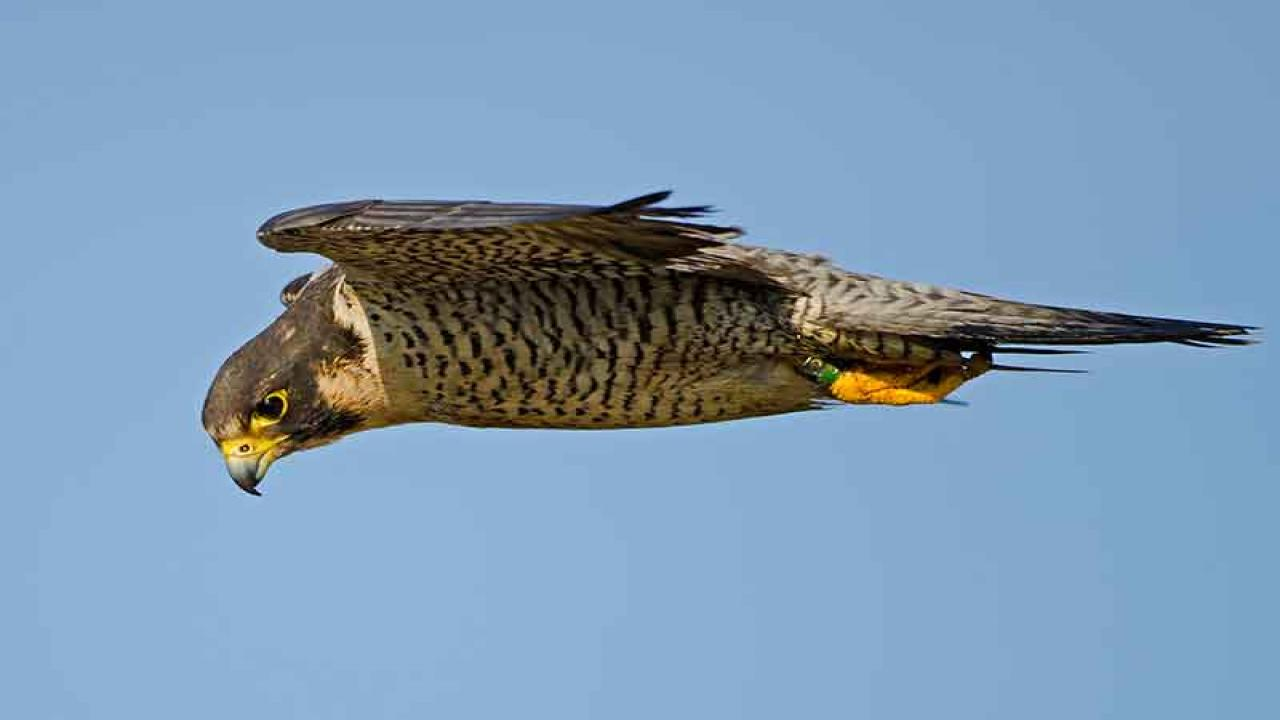Bird: (184, 178, 1265, 522)
